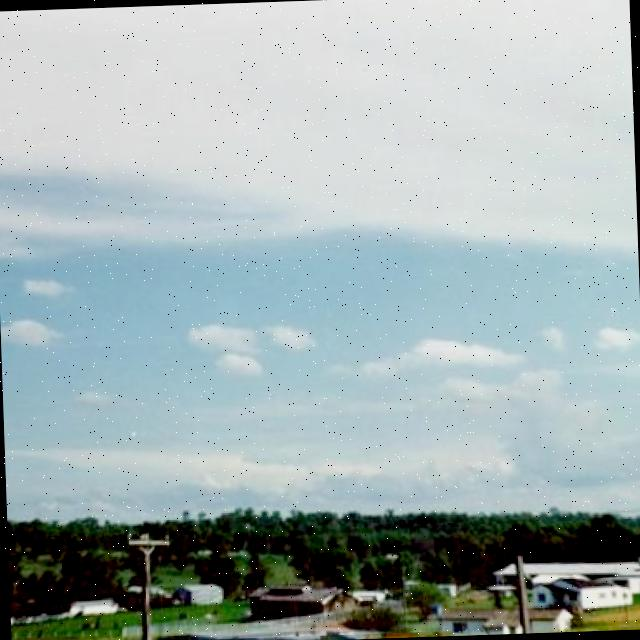Cs: (1, 51, 640, 466)
